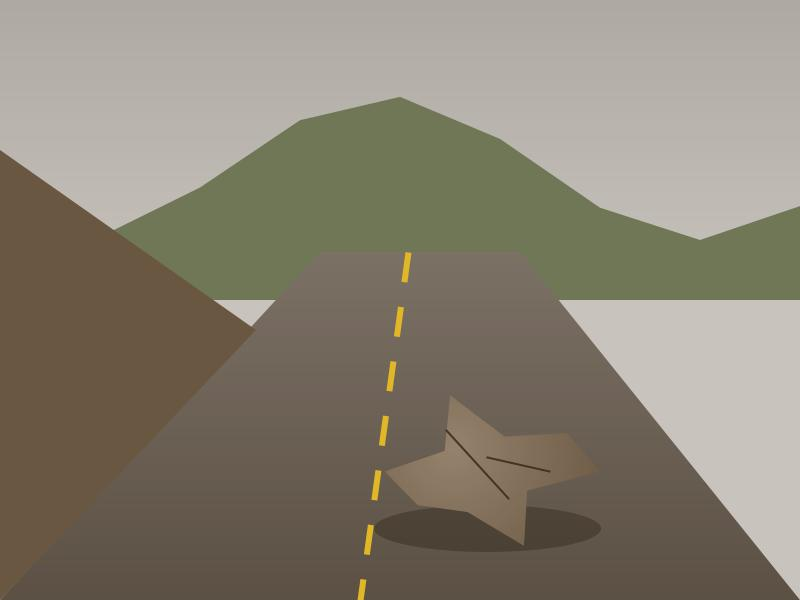ROAD_OBSTACLE: (384, 403, 591, 540)
